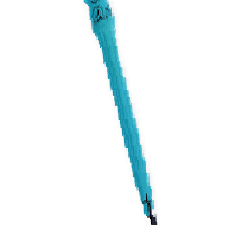Screwdriver: (74, 1, 163, 225)
